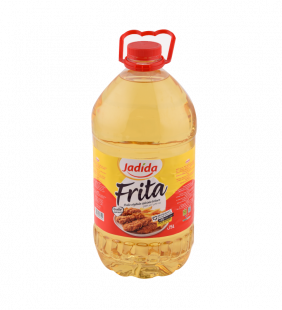JADIDA: (86, 24, 203, 284)
